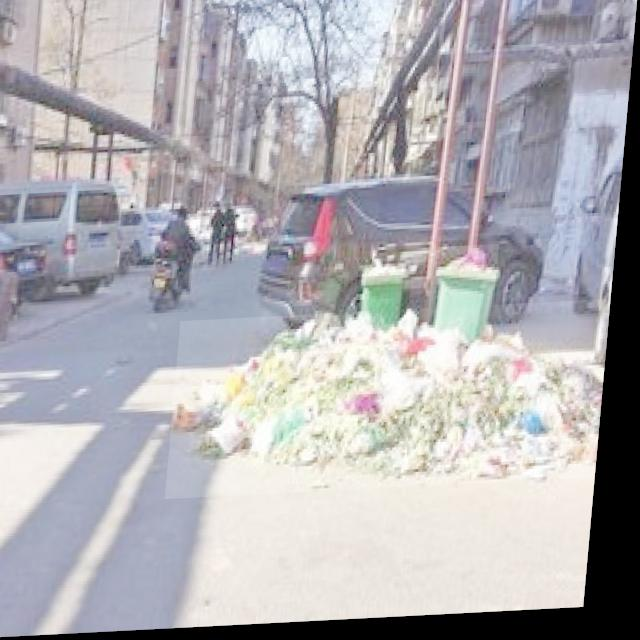garbage: (174, 306, 615, 502)
overflow: (432, 250, 504, 347), (360, 264, 418, 330)
